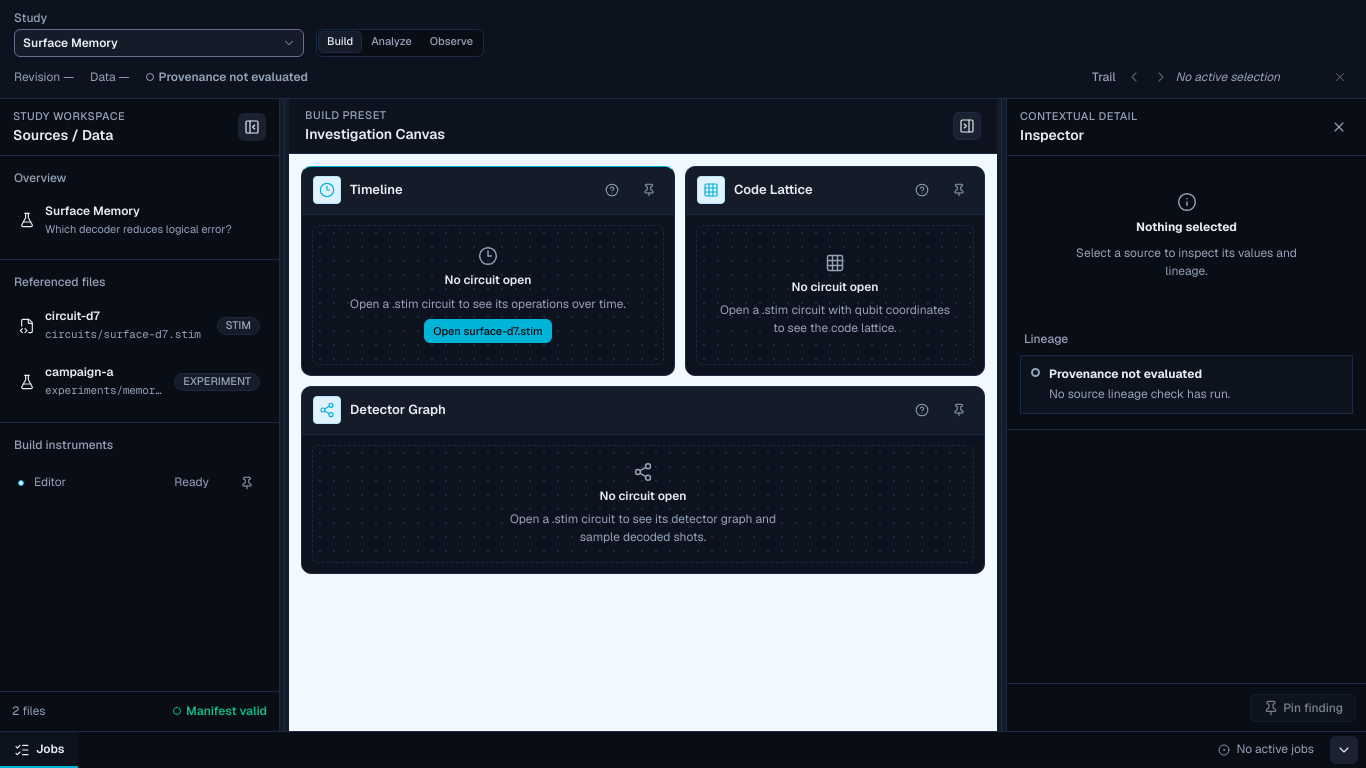
<QecWorkbench /> › keeps tray lifecycle content available while allowing it to collapse
Expected: the text "No active jobs" is shown, [1218,741,1322,759]
Click the button named "Collapse jobs and streams".
click(1344, 750)  # box [1330,736,1358,764]
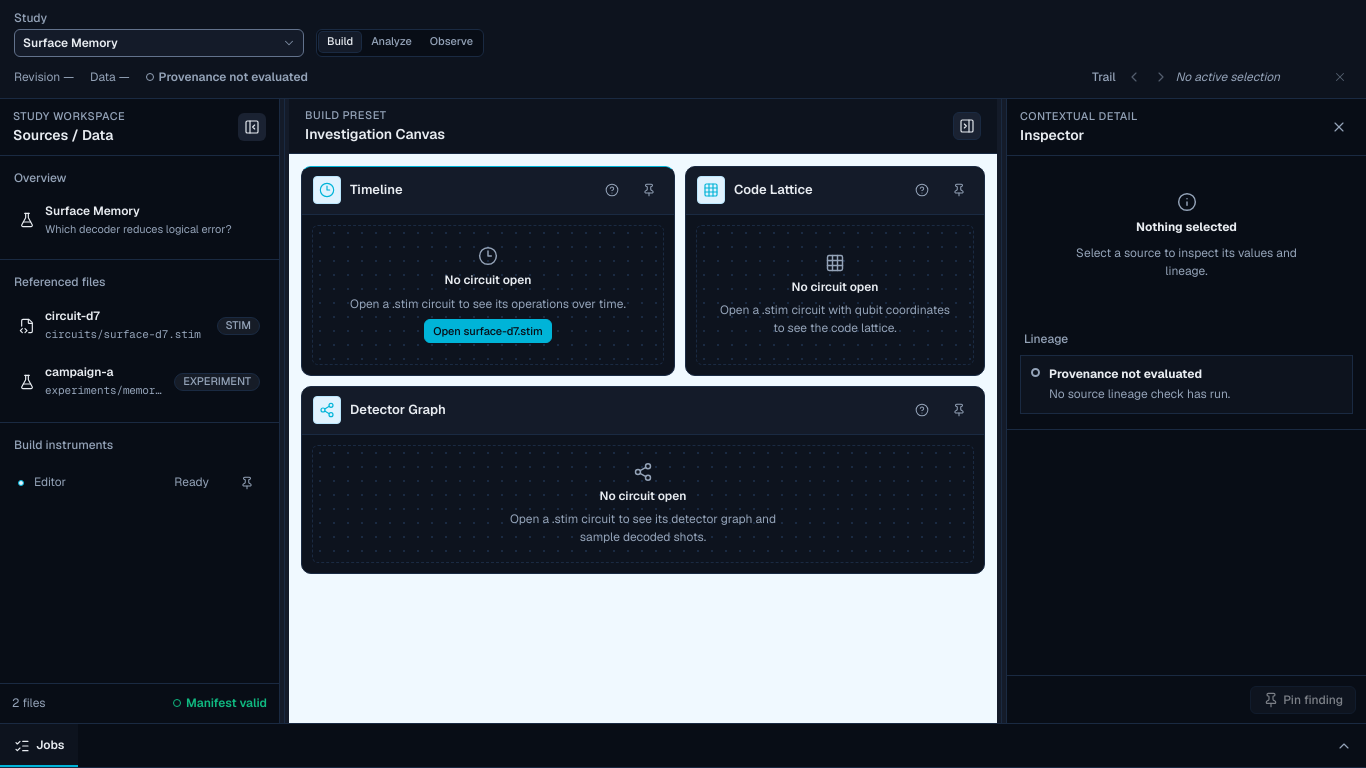
Expected: the button named "Expand jobs and streams" is collapsed, [1330,732,1358,760]
Expected: the text "No active jobs" is gone
